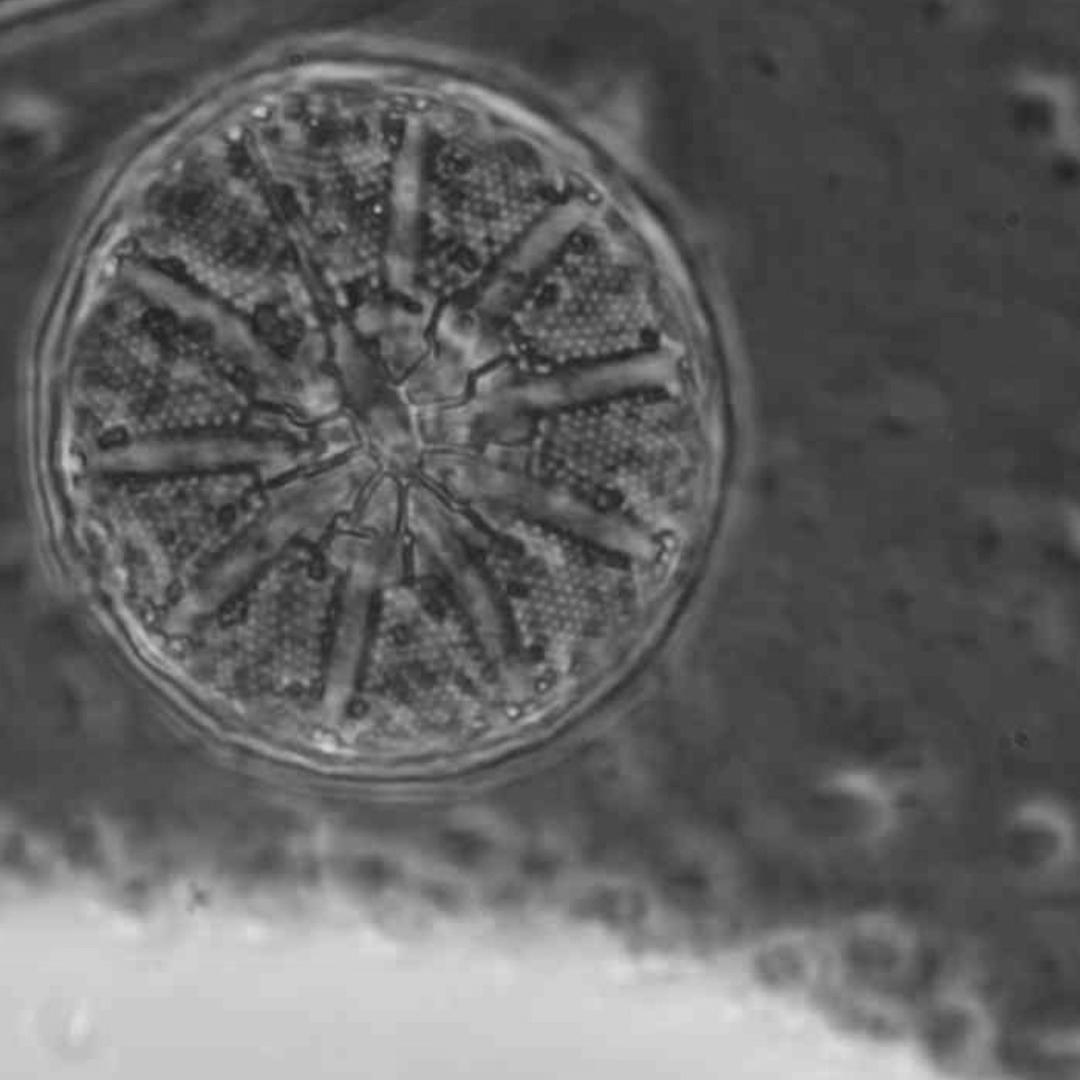asteromphalus_hyalinus: (46, 72, 713, 763)
